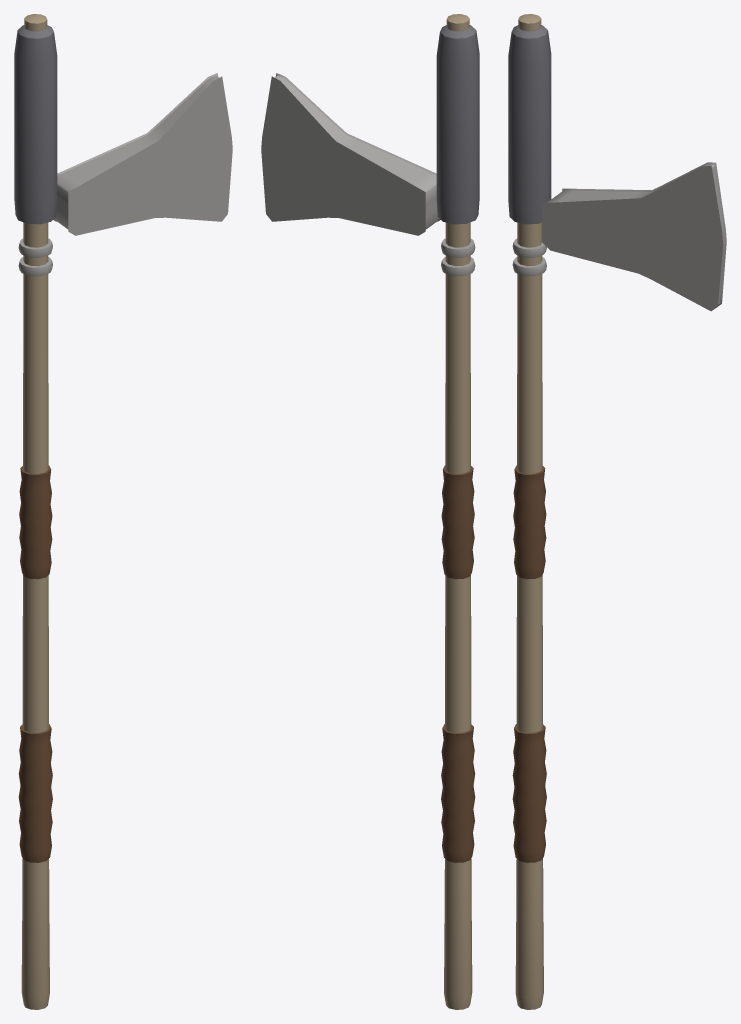
Rendered from lumber_greataxe.glb.
3 renders of one model, left to right at view 1: azimuth 30°, elevation 25°; view 2: azimuth 150°, elevation 25°; view 3: azimuth 330°, elevation 25°, orthographic.
Visible parts, largest first — view 1: lumber_greataxe; view 2: lumber_greataxe; view 3: lumber_greataxe.
Part boxes in pixels (x1,y1,x2,y2): lumber_greataxe: [14, 14, 232, 1009]; lumber_greataxe: [261, 14, 479, 1009]; lumber_greataxe: [508, 14, 726, 1009].
Bounding box in the file's own units: 0.3634 × 1.6 × 0.0609.
